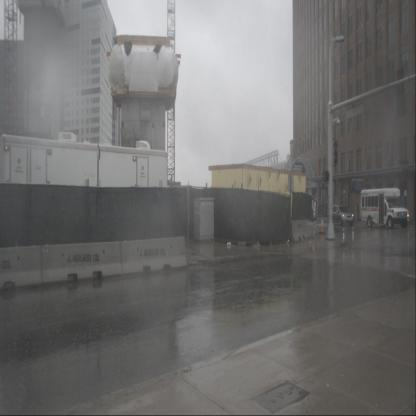movable_object-barrier: (41, 241, 123, 284), (120, 235, 188, 276), (0, 244, 42, 290), (288, 219, 308, 243), (306, 219, 315, 240), (316, 216, 328, 229), (313, 221, 319, 236)
movable_object-trafficcone: (318, 218, 326, 234)
vehicle-bus-rigid: (360, 187, 409, 229)
vehicle-car: (327, 204, 354, 226)
